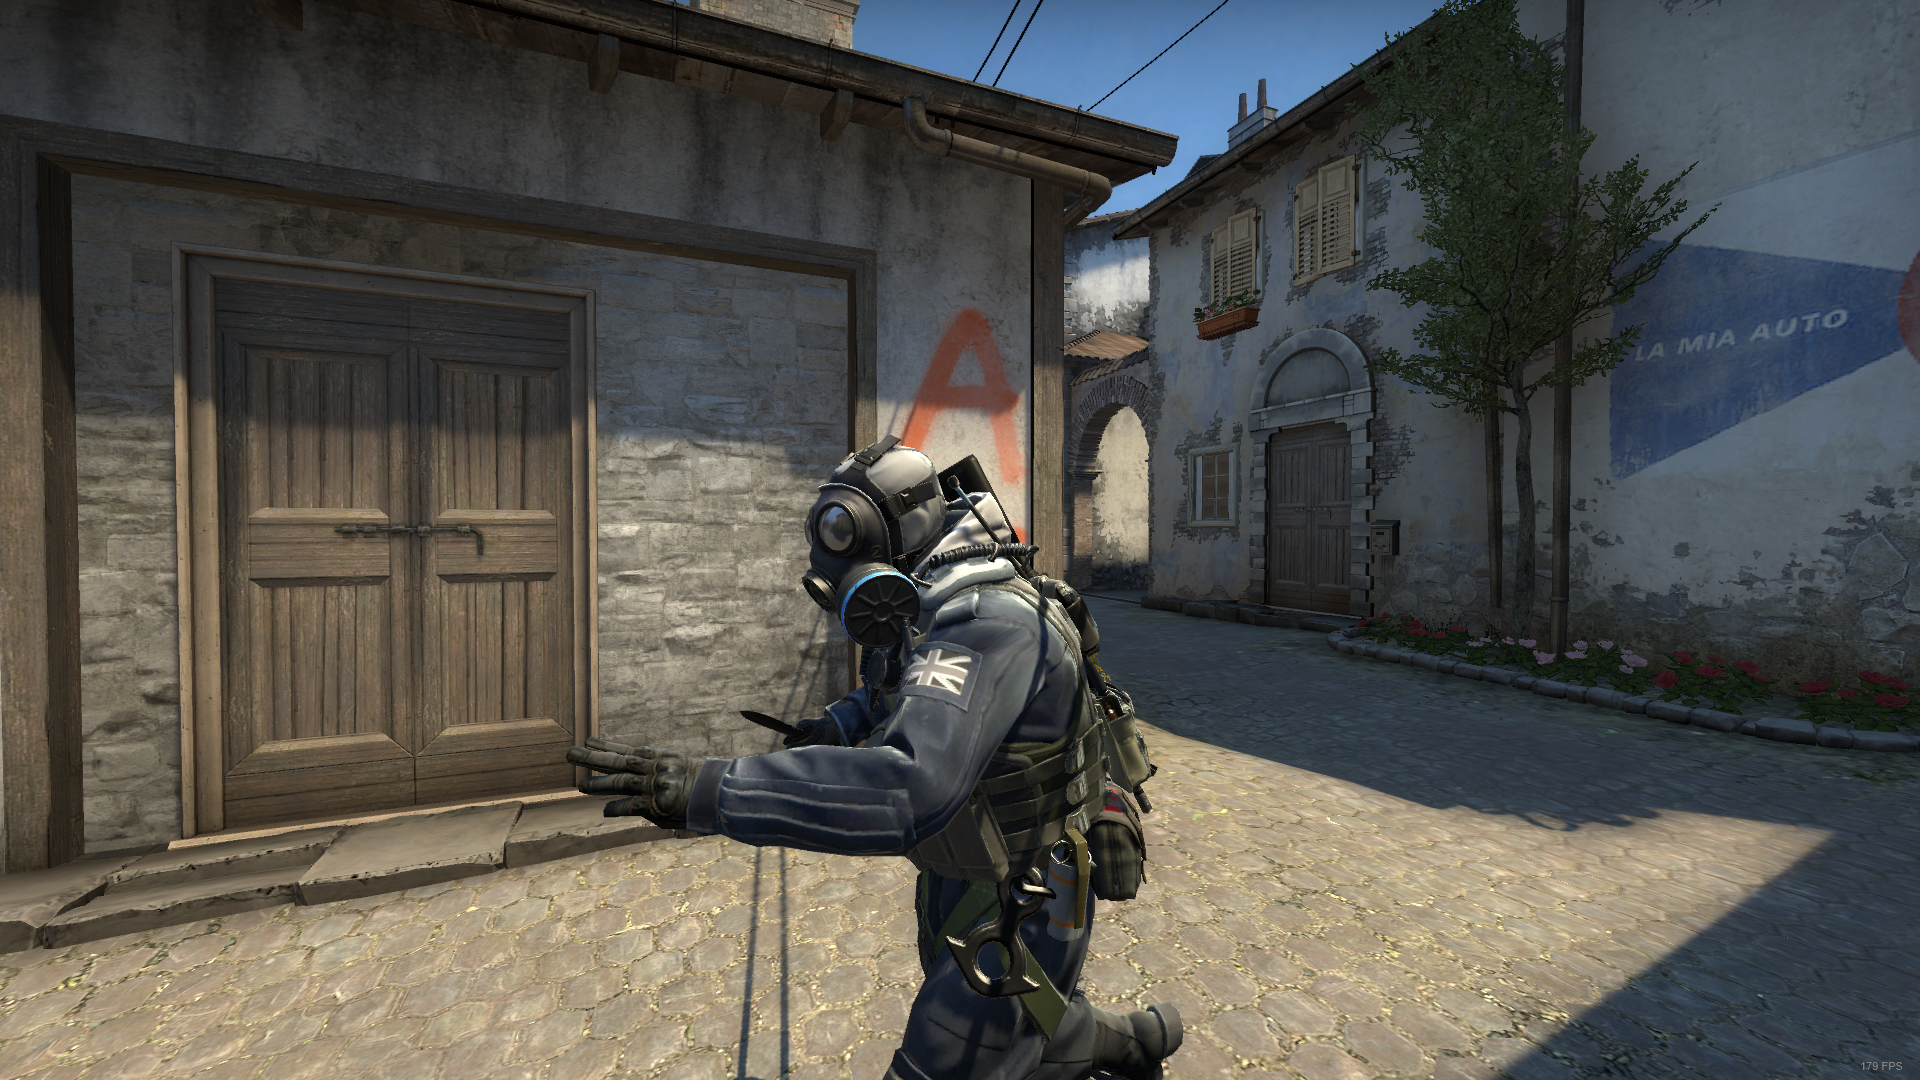ct: (568, 436, 1207, 1080)
